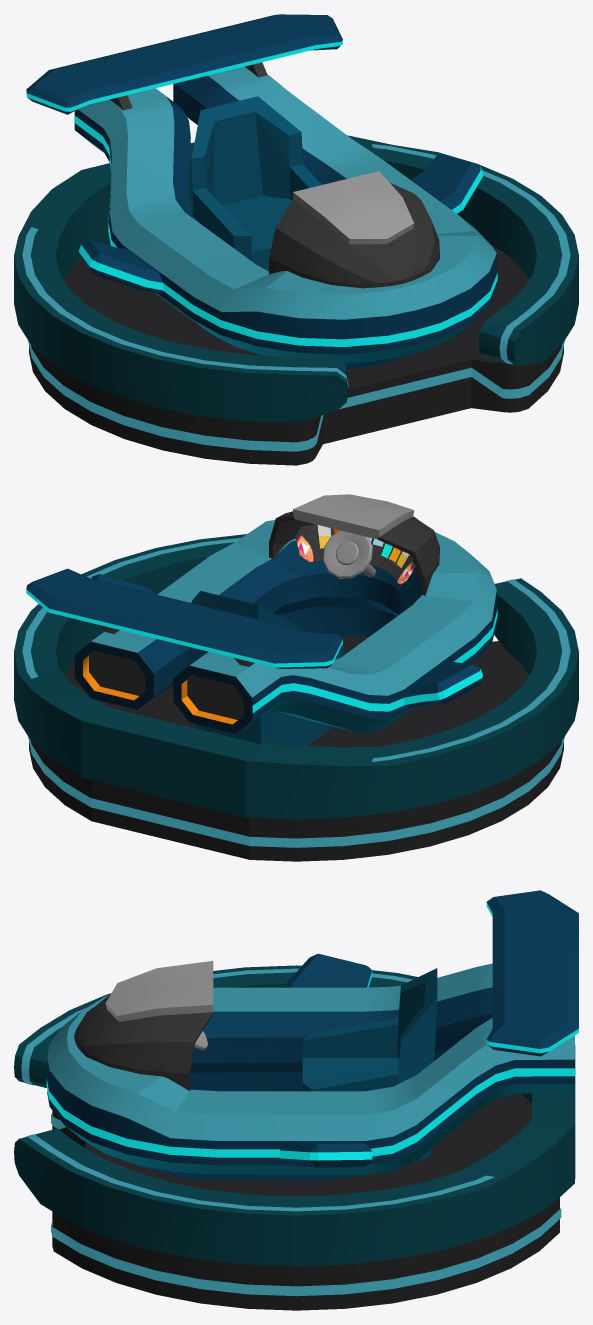
Rendered from speedster.gltf.
3 views of the same model, one above another, from view 1: azimuth 30°, elevation 25°; view 2: azimuth 150°, elevation 25°; view 3: azimuth 270°, elevation 25° (orthographic). The views are drawn at different scales.
Visible parts, largest first — view 1: speedster.base, speedster.body, speedster.hood, speedster.seat, speedster.aerofoil, speedster.neons.002, speedster.wings, speedster.neons.003, speedster.neons.001; view 2: speedster.base, speedster.body, speedster.aerofoil, speedster.hood, speedster.neons.002, speedster.seat, speedster.neons.003, speedster.wings, speedster.display, speedster.steering, speedster.neons.001; view 3: speedster.base, speedster.body, speedster.aerofoil, speedster.hood, speedster.seat, speedster.neons.002, speedster.wings, speedster.neons.001, speedster.neons.003.
Boxes of the visible parts, x1,y1,x2,y2 form: speedster.base: (14,135,578,465); speedster.body: (74,66,496,368); speedster.hood: (269,171,439,288); speedster.seat: (191,96,321,271); speedster.aerofoil: (26,14,342,114); speedster.neons.002: (28,340,564,451); speedster.wings: (78,154,483,293); speedster.neons.003: (22,144,570,388); speedster.neons.001: (74,115,497,346); speedster.base: (14,534,578,861); speedster.body: (74,520,496,733); speedster.aerofoil: (26,568,342,668); speedster.hood: (269,494,439,595); speedster.neons.002: (28,736,564,847); speedster.seat: (191,591,343,746); speedster.neons.003: (22,537,570,761); speedster.wings: (91,574,483,707); speedster.display: (295,524,415,584); speedster.steering: (323,530,375,578); speedster.neons.001: (252,609,497,712); speedster.base: (14,965,575,1310); speedster.body: (47,963,574,1181); speedster.aerofoil: (486,890,578,1056); speedster.hood: (74,961,213,1090); speedster.seat: (302,968,437,1165); speedster.neons.002: (51,1114,561,1296); speedster.wings: (280,953,372,1167); speedster.neons.001: (46,1068,574,1157); speedster.neons.003: (21,968,494,1211).
Size of what is drawn, in the model's own units: 2.11 by 0.8908 by 2.02.
Materials: 2 (2 with a texture image).
